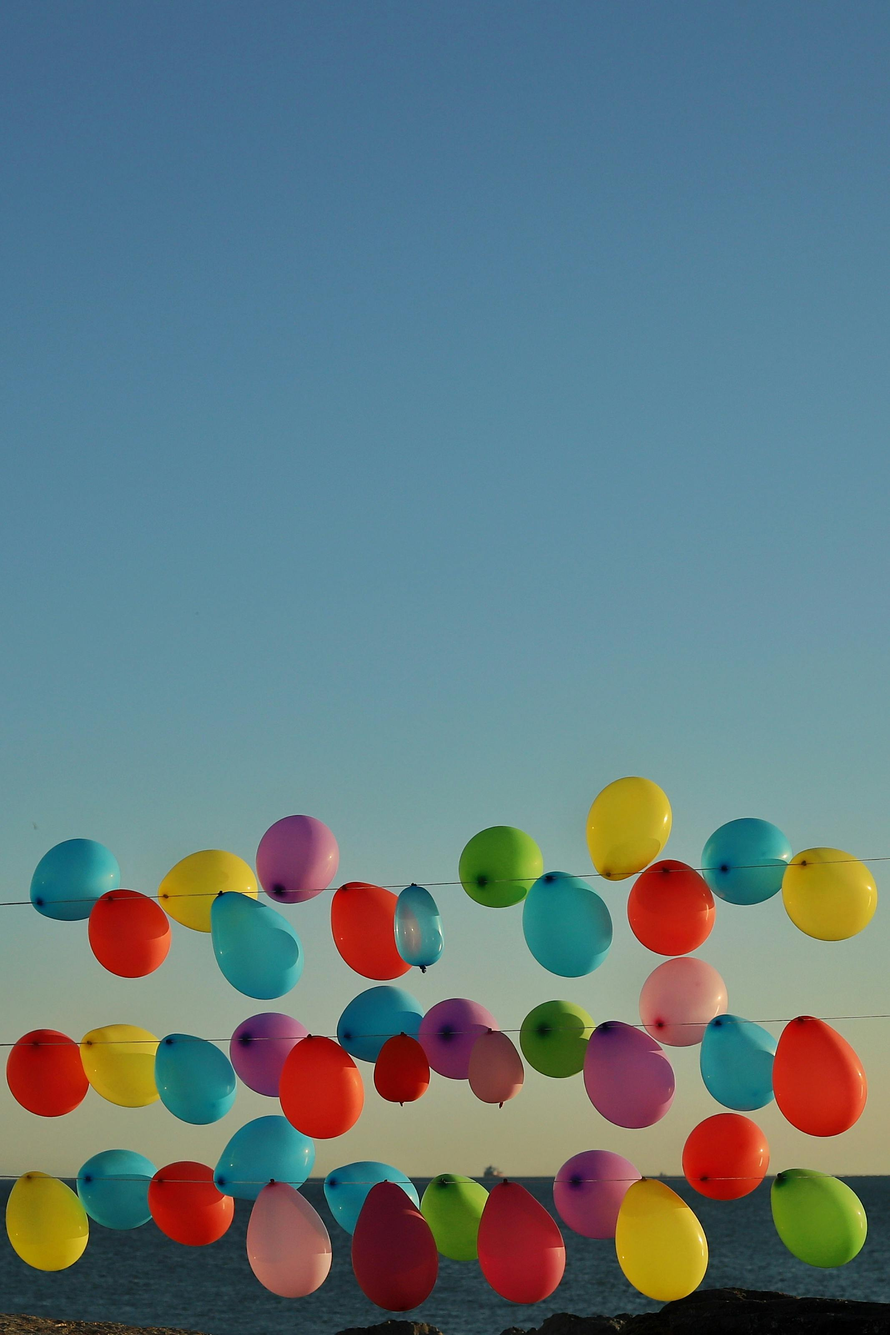balloon: (554, 1178, 708, 1301), (428, 1178, 566, 1303), (772, 1016, 867, 1136), (352, 1182, 437, 1312), (211, 892, 303, 1000), (583, 1021, 675, 1129), (246, 1181, 331, 1297), (522, 872, 613, 977), (771, 1169, 867, 1268), (278, 1035, 364, 1139), (782, 847, 877, 941), (586, 777, 672, 880), (627, 860, 715, 956), (214, 1116, 314, 1199), (158, 850, 257, 932), (6, 1172, 88, 1271), (330, 882, 410, 981), (639, 957, 727, 1046), (553, 1150, 641, 1239), (701, 818, 790, 905), (682, 1113, 769, 1199), (30, 838, 120, 921), (700, 1014, 777, 1111), (88, 889, 171, 978), (154, 1034, 236, 1124), (148, 1161, 234, 1246), (256, 815, 339, 903), (6, 1029, 88, 1117), (324, 1161, 419, 1234), (459, 826, 543, 907), (80, 1024, 158, 1108), (337, 986, 422, 1063), (229, 1013, 306, 1097), (77, 1149, 155, 1229), (417, 998, 493, 1079), (520, 1000, 594, 1078), (421, 1174, 488, 1260), (394, 884, 443, 970), (468, 1030, 524, 1104), (374, 1033, 430, 1104)
